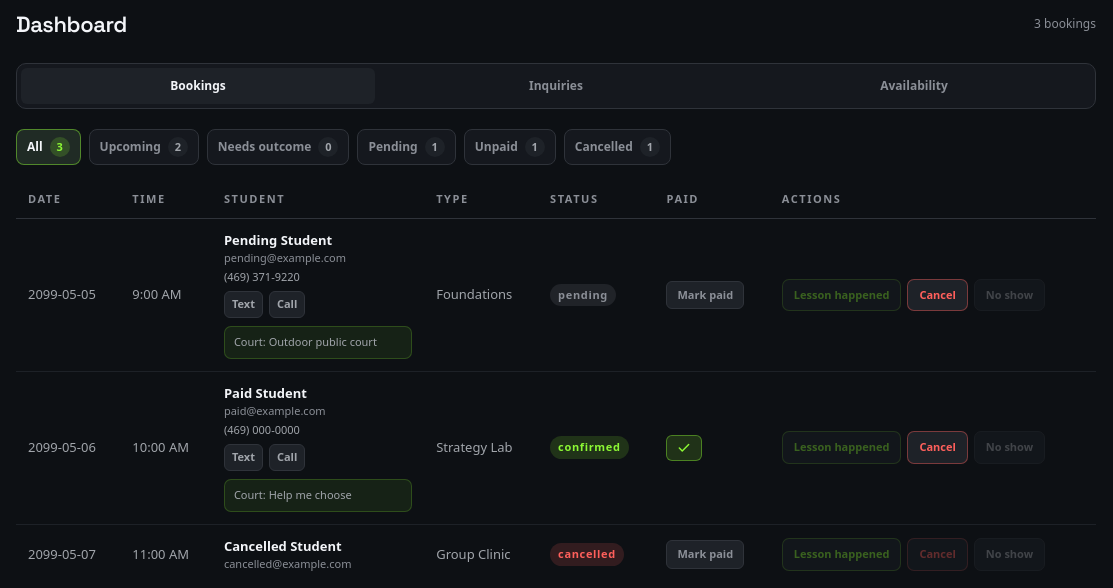
AdminDashboard availability › filters bookings by operational status
Click the button with aria-label "unpaid bookings (1)" at (510, 147), box x1=464 y1=129 x2=556 y2=165
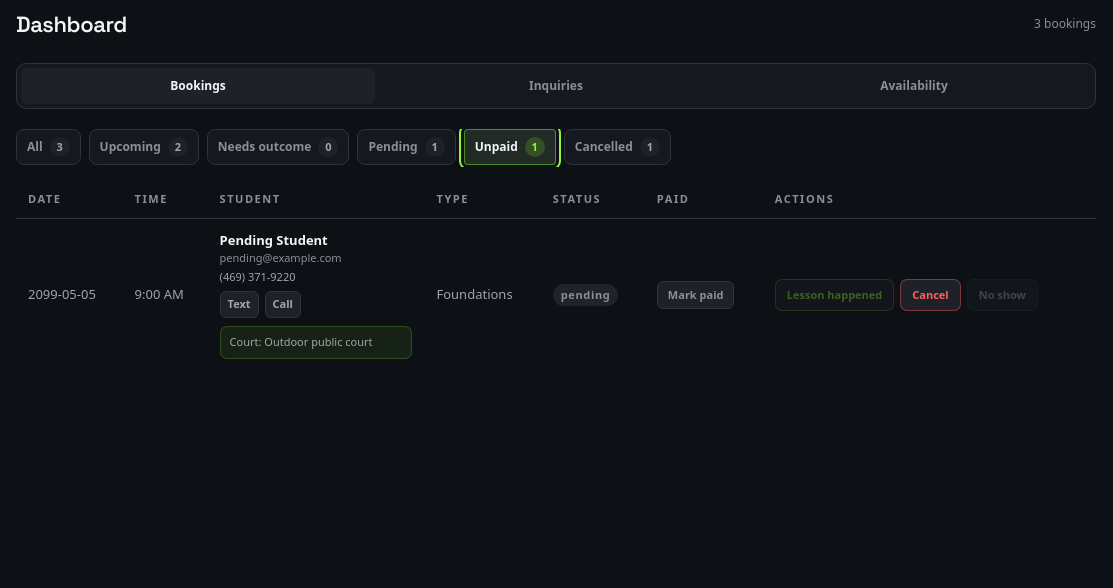
Expected: the text "Pending Student" is shown, x1=220 y1=231 x2=328 y2=249
Expected: the text "Paid Student" is gone
Expected: the text "Cancelled Student" is gone
Click the button with aria-label "cancelled bookings (1)" at (617, 147), box x1=564 y1=129 x2=671 y2=165
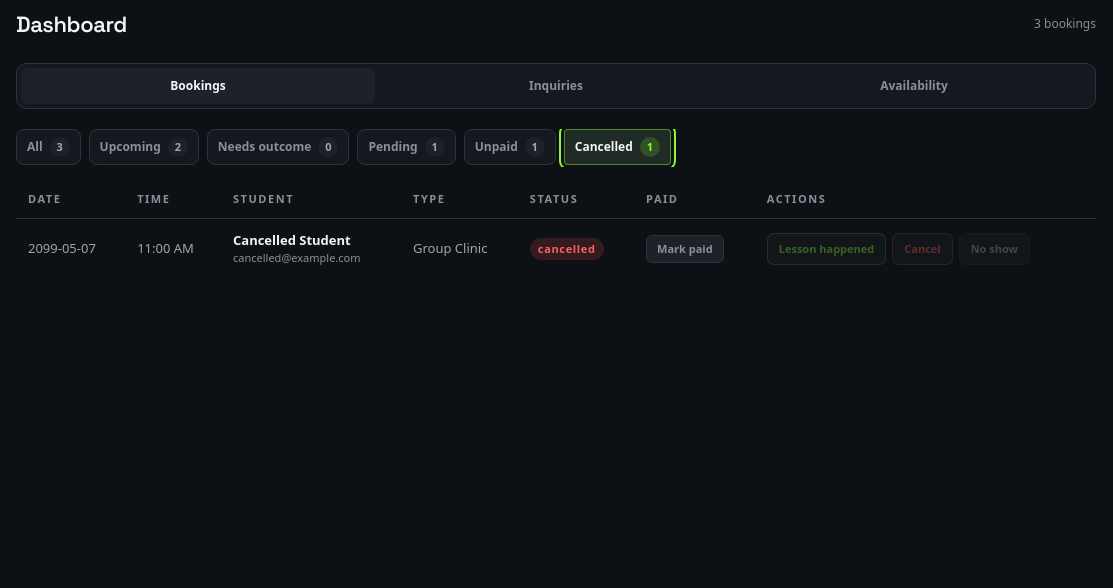
Expected: the text "Pending Student" is gone
Expected: the text "Cancelled Student" is shown, x1=233 y1=231 x2=351 y2=249
